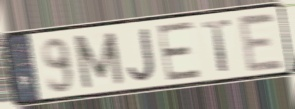9: (40, 35, 76, 94)
E: (235, 11, 287, 74), (155, 19, 203, 84)
J: (126, 26, 158, 84)
M: (71, 30, 127, 92)
T: (200, 17, 234, 74)
